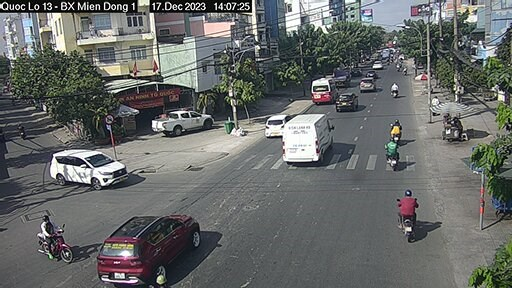car: (95, 212, 204, 288), (53, 149, 126, 191), (283, 112, 334, 164), (146, 107, 217, 136), (263, 111, 291, 139), (310, 79, 338, 105), (333, 91, 362, 112), (359, 79, 377, 94), (372, 59, 385, 73)
motorbike: (39, 222, 73, 268), (395, 187, 421, 240), (381, 140, 406, 167), (387, 81, 403, 98), (390, 124, 404, 142)
